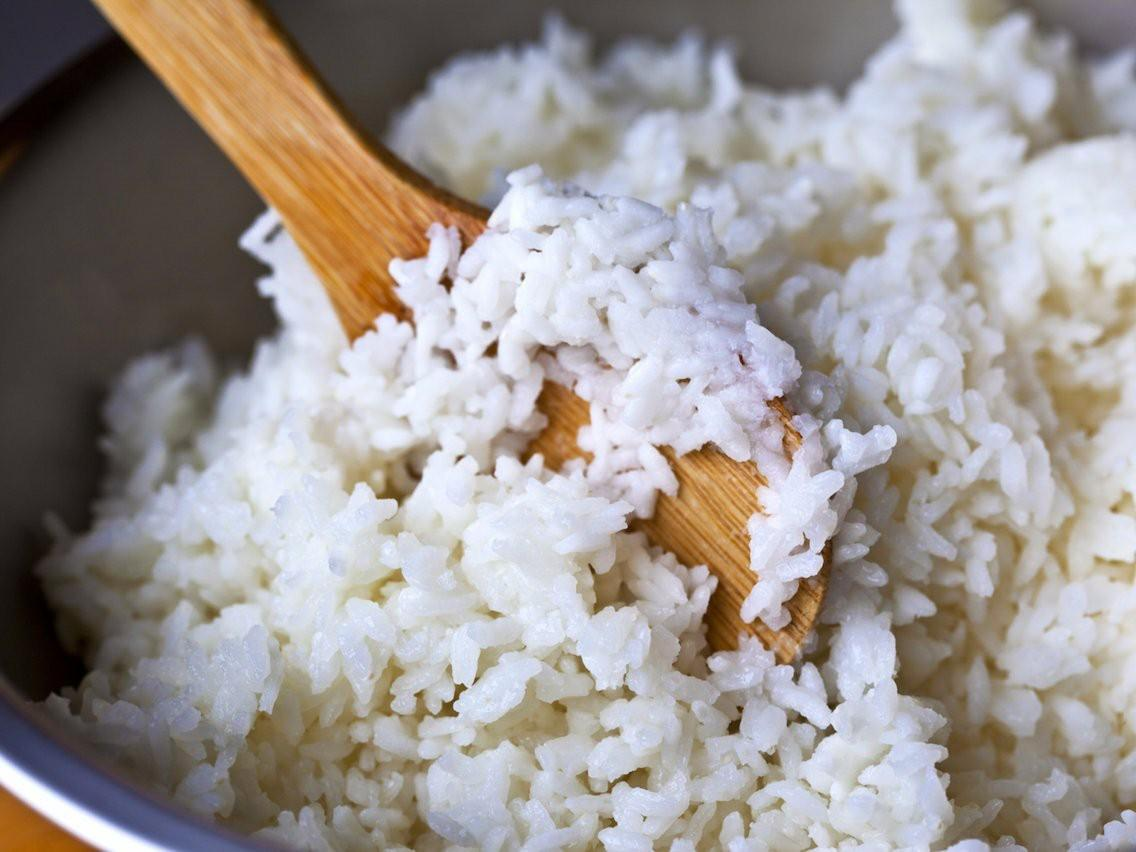WhiteRice: (32, 0, 1136, 852)
